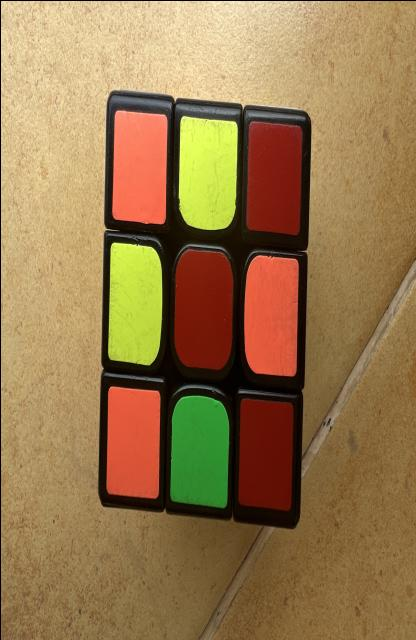Green: (169, 395, 228, 508)
Orange: (243, 255, 297, 375), (111, 110, 167, 223), (106, 385, 159, 498)
Red: (173, 248, 232, 370), (245, 120, 301, 235), (237, 398, 292, 510)
Yellow: (107, 242, 162, 365), (178, 115, 236, 228)
